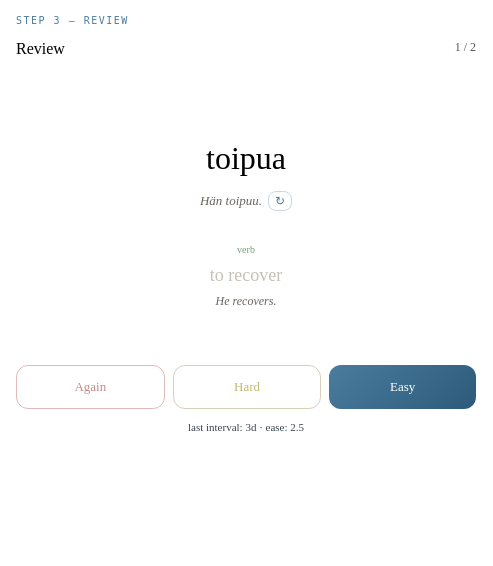
Test case: ReviewStage – example suggestions › asks for another, avoiding everything already shown
Click the button named "suggest a different example". click: (280, 200)
box: left=268, top=190, right=292, bottom=210
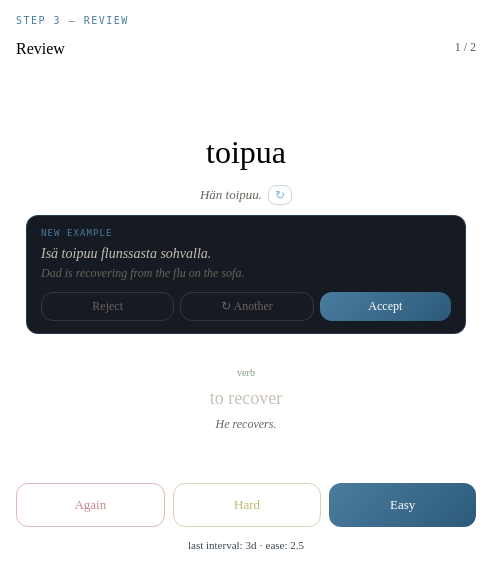
Expected: the text "Isä toipuu flunssasta sohvalla." is shown, left=41, top=246, right=211, bottom=261
Click the button "↻ Another". click: (247, 306)
box: left=180, top=292, right=314, bottom=321
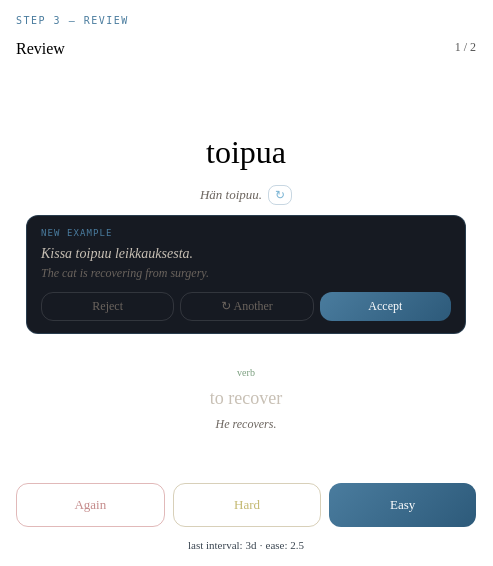
Expected: the text "Kissa toipuu leikkauksesta." is shown, left=41, top=246, right=193, bottom=261
